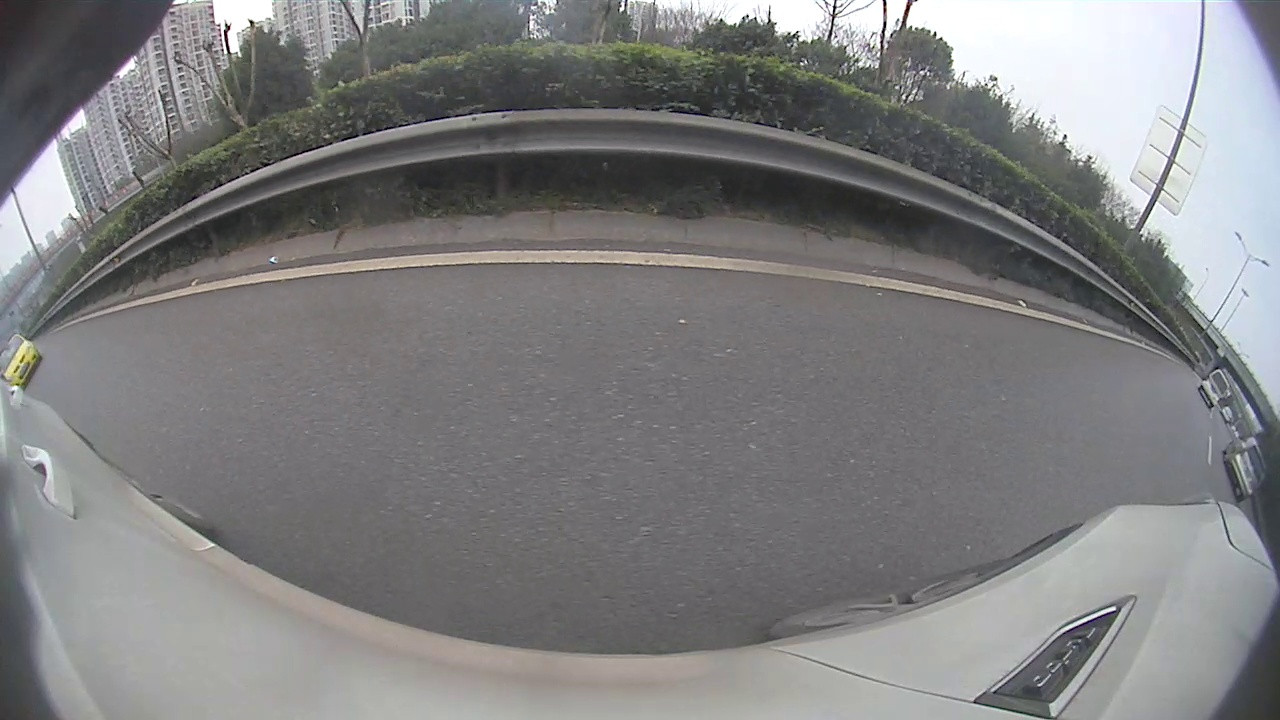car: (1221, 434, 1266, 503), (1, 335, 45, 389), (1196, 368, 1232, 408)
